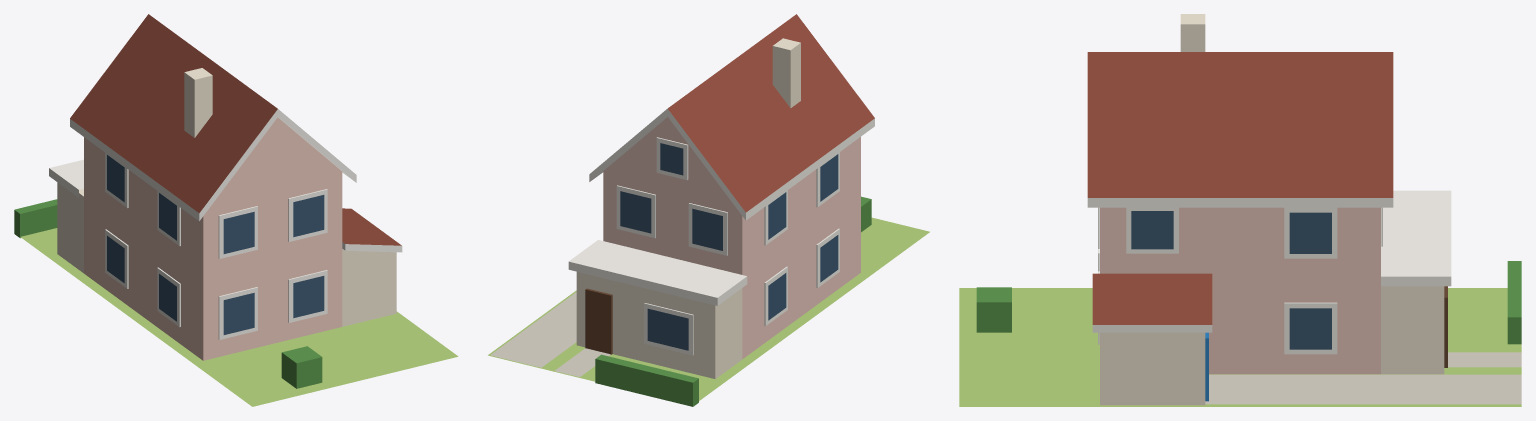
3 renders of one model, left to right at view 1: azimuth 30°, elevation 25°; view 2: azimuth 150°, elevation 25°; view 3: azimuth 270°, elevation 25°, orthographic. The views are drawn at different scales.
Parts seen in each view (by area): view 1: house, roof (×2), lawn, window_glass (×8), gable, window_frame (×6), garage, roof_edge (×2), porch, chimney, tree_spot, hedge (+1 smaller); view 2: roof, house, porch, window_glass (×8), porch_roof, lawn, window_frame (×6), gable, hedge, drive, roof_edge, chimney (+2 smaller); view 3: roof (×2), house, lawn, drive, garage, porch_roof, porch, window_glass (×3), roof_edge (×2), window_frame (×3), tree_spot, hedge (+2 smaller).
Boxes of the visible parts, x1,y1,x2,y2 form: house: (84, 137, 342, 360); roof (×2): (70, 14, 401, 245); lawn: (20, 228, 458, 406); window_glass (×8): (107, 155, 324, 334); gable: (213, 117, 341, 202); window_frame (×6): (105, 189, 327, 339); garage: (342, 249, 396, 326); roof_edge (×2): (70, 109, 402, 252); porch: (57, 182, 83, 273); chimney: (184, 68, 212, 137); tree_spot: (281, 346, 322, 388); hedge: (14, 199, 57, 238); roof: (667, 14, 874, 212); house: (603, 137, 860, 359); porch: (576, 271, 742, 379); window_glass (×8): (620, 143, 838, 350); porch_roof: (568, 240, 747, 305); lawn: (488, 217, 929, 400); window_frame (×6): (616, 137, 839, 355); gable: (603, 117, 731, 202); hedge: (595, 354, 698, 406); drive: (490, 292, 576, 367); roof_edge: (589, 109, 874, 220); chimney: (772, 38, 800, 108); roof (×2): (1087, 52, 1393, 324); house: (1100, 207, 1380, 374); lawn: (959, 288, 1521, 406); drive: (1205, 374, 1521, 404); garage: (1100, 332, 1205, 405); porch_roof: (1381, 190, 1451, 286); porch: (1381, 286, 1444, 374); window_glass (×3): (1131, 211, 1331, 349); roof_edge (×2): (1087, 198, 1393, 332); window_frame (×3): (1126, 207, 1337, 354); tree_spot: (976, 287, 1011, 332); hedge: (1507, 261, 1521, 344).
Bounding box in the file's own units: 8 × 9.3 × 16.
